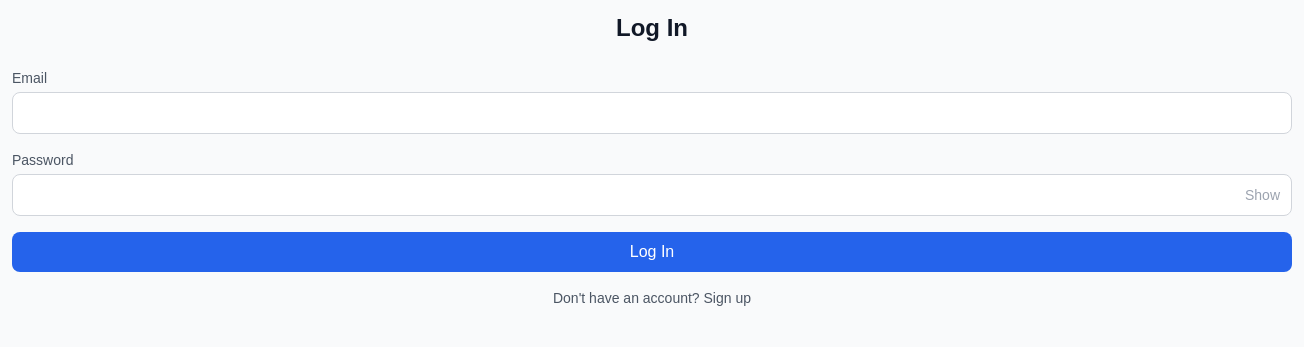
LoginPage › blocks submission and shows a validation message for a malformed email
In the field labelled "Email": (652, 113) left=12, top=92, right=1292, bottom=134, type "not-an-email"
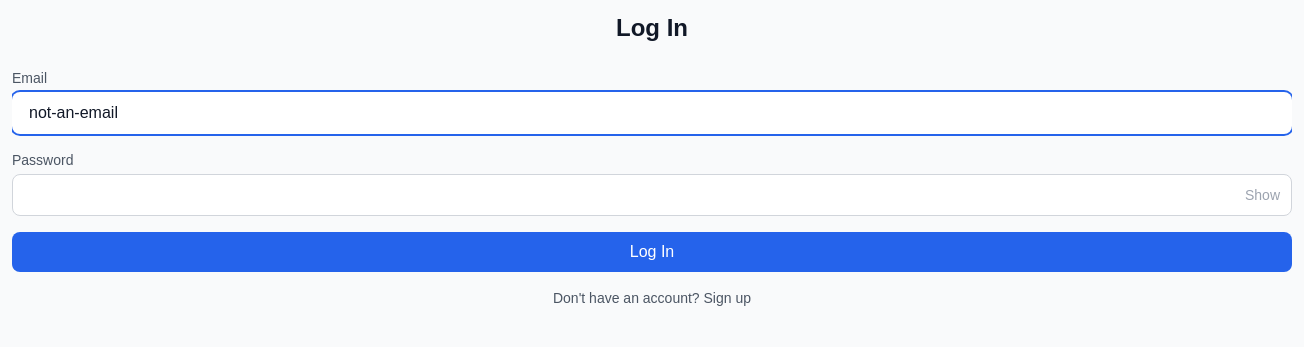
In the password field labelled "Password": (652, 195) left=12, top=174, right=1292, bottom=216, type "Claimant123!"
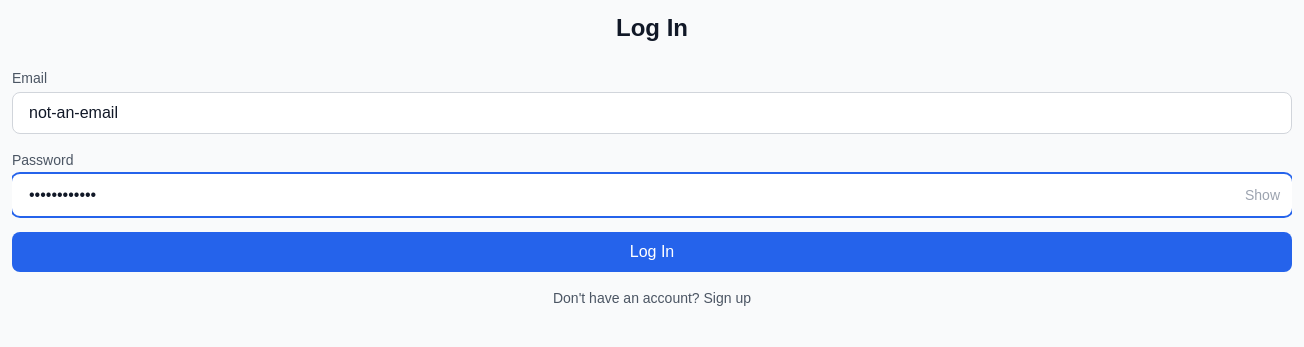
Click the button "Log In": (652, 252) left=12, top=232, right=1292, bottom=272
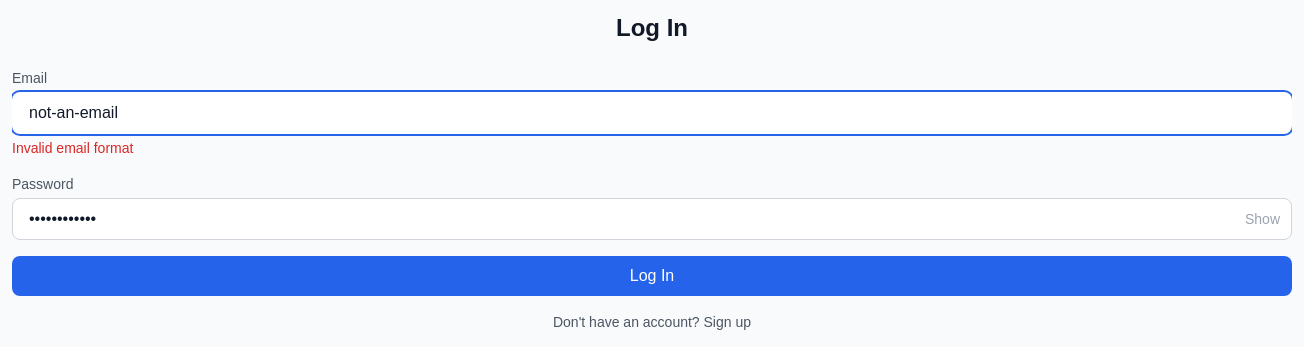
Result: the text "Invalid email format" is shown at left=12, top=140, right=133, bottom=156
